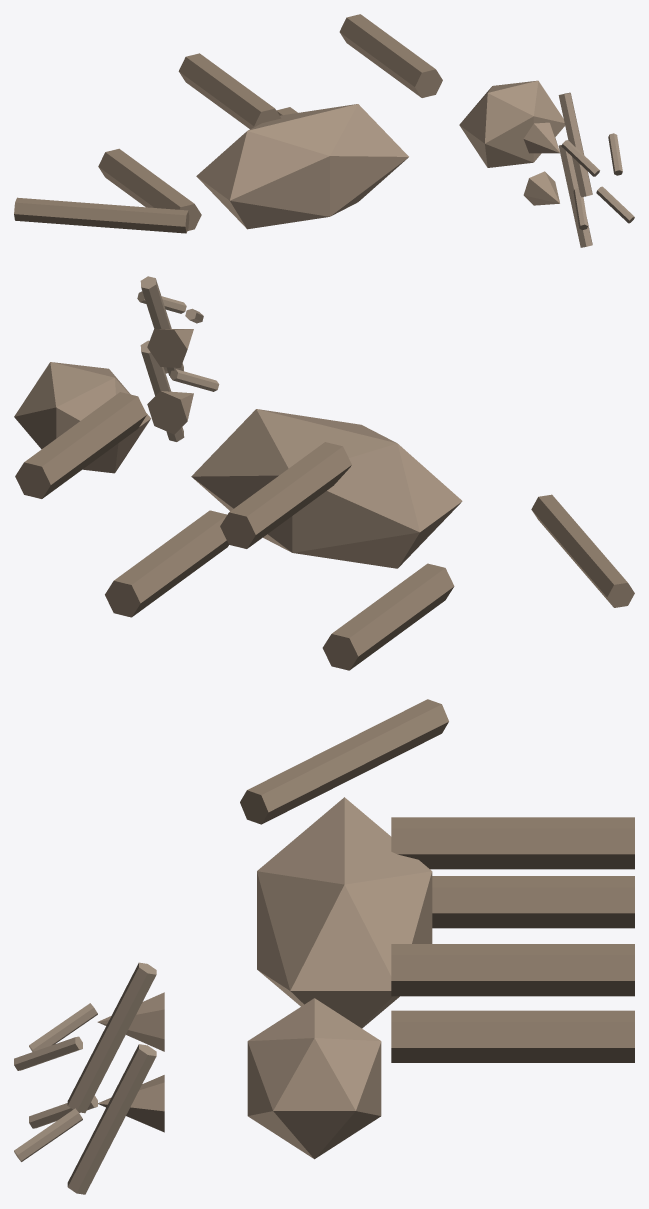
Rendered from caribou.glb.
The picture shows the model from 3 angles, top to bottom: view 1: azimuth 30°, elevation 25°; view 2: azimuth 150°, elevation 25°; view 3: azimuth 270°, elevation 25°; orthographic projection. The views are drawn at different scales.
Parts seen in each view (by area): view 1: world; view 2: world; view 3: world.
Boxes of the visible parts, <box> form: world: <box>14,14,634,247</box>; world: <box>14,276,634,670</box>; world: <box>14,699,634,1194</box>.
Bounding box in the file's own units: 2.52 × 0.6698 × 1.66.
